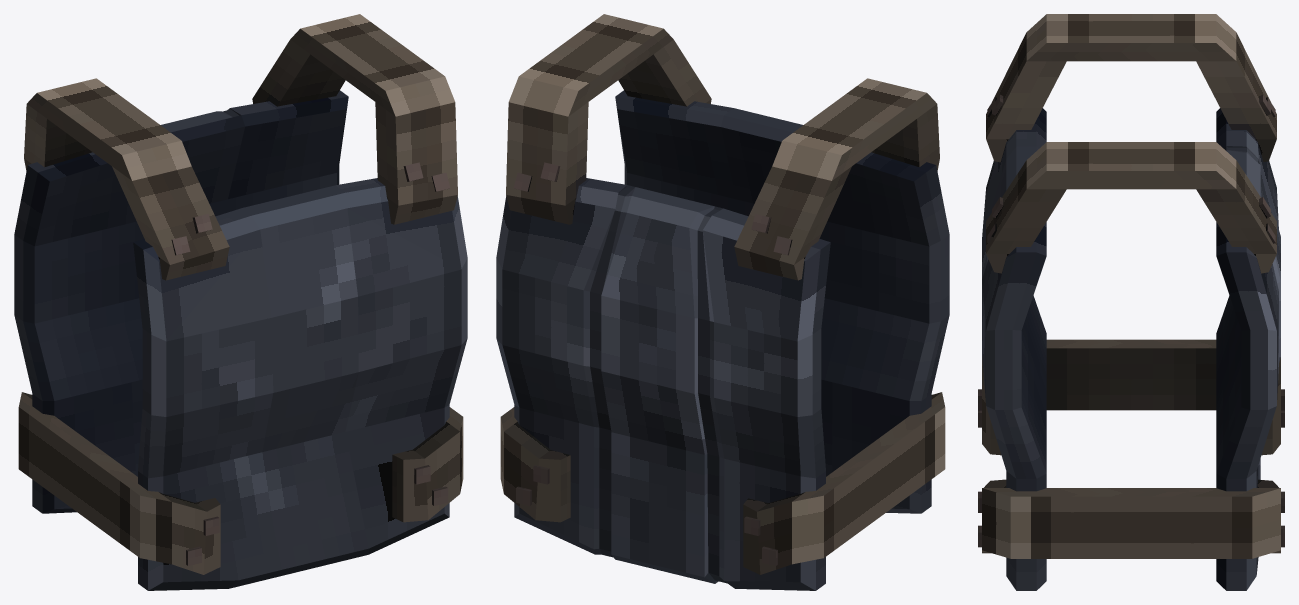
The picture shows the model from 3 angles, left to right: view 1: azimuth 30°, elevation 25°; view 2: azimuth 150°, elevation 25°; view 3: azimuth 270°, elevation 25°; orthographic projection.
Parts seen in each view (by area): view 1: body; view 2: body; view 3: body.
Boxes of the visible parts, <box> form: body: <box>14,14,467,590</box>; body: <box>496,14,949,590</box>; body: <box>978,14,1284,590</box>.
Size of the model in its own units: 0.575 by 0.7563 by 0.475.
1 material, 1 textured.
